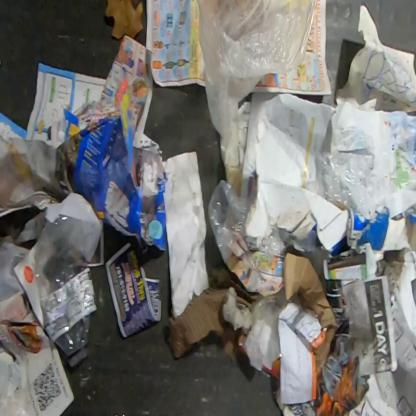cardboard: (283, 252, 338, 371), (169, 286, 229, 360), (346, 204, 416, 254)
rigid_plastic: (33, 215, 98, 370)
soft_plastic: (196, 0, 317, 170), (318, 150, 380, 218), (207, 179, 252, 265)
